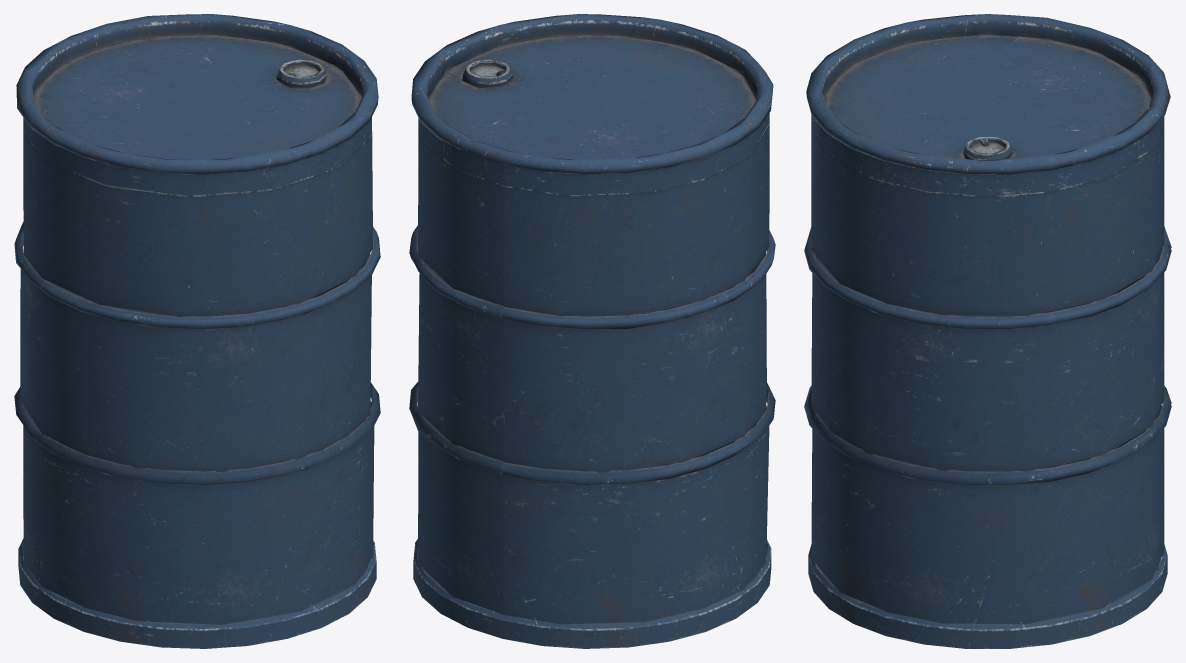
File: cargo-barrel.glb
3 views of the same model, side by side, from view 1: azimuth 30°, elevation 25°; view 2: azimuth 150°, elevation 25°; view 3: azimuth 270°, elevation 25° (orthographic).
Parts seen in each view (by area): view 1: cargo-barrel; view 2: cargo-barrel; view 3: cargo-barrel.
Boxes of the visible parts, x1,y1,x2,y2 form: cargo-barrel: (14, 14, 380, 648); cargo-barrel: (409, 14, 775, 648); cargo-barrel: (804, 14, 1171, 648).
Size of the model in its own units: 0.6336 by 0.9306 by 0.6381.
1 material, 1 textured.
